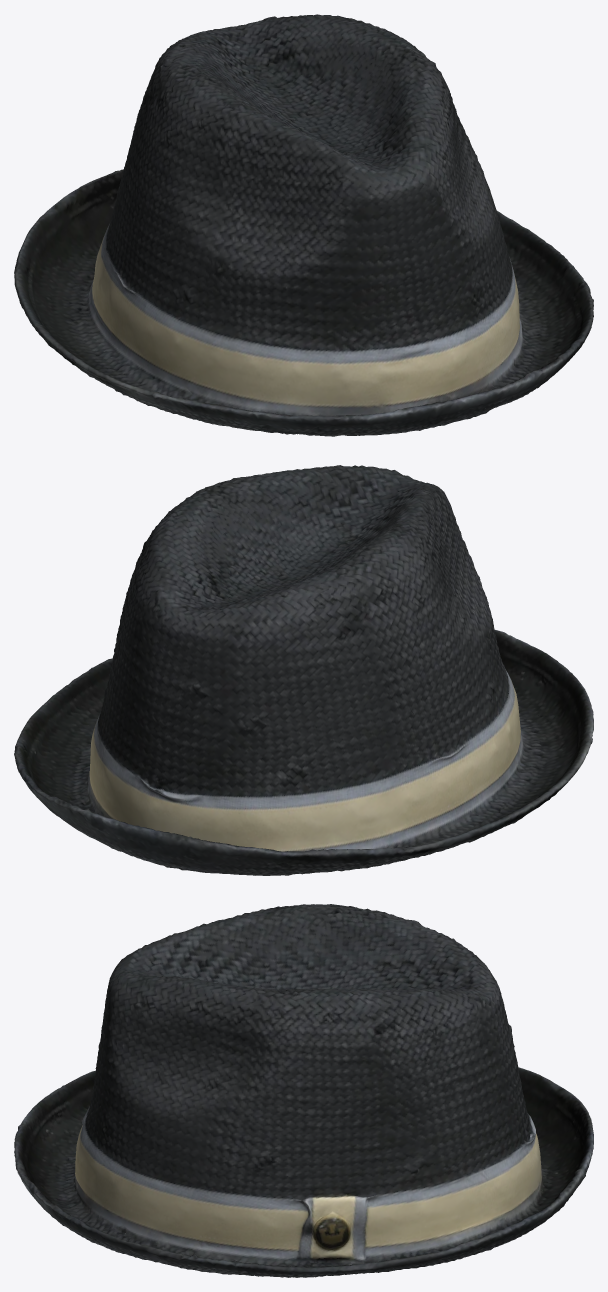
The model's file is Retail_Leadership_Summit_tQFCizMt6g0.glb.
The picture shows the model from 3 angles, top to bottom: view 1: azimuth 30°, elevation 25°; view 2: azimuth 150°, elevation 25°; view 3: azimuth 270°, elevation 25°; orthographic projection. The views are drawn at different scales.
Visible parts, largest first — view 1: Retail_Leadership_Summit_tQFCizMt6g0; view 2: Retail_Leadership_Summit_tQFCizMt6g0; view 3: Retail_Leadership_Summit_tQFCizMt6g0.
Boxes of the visible parts, box(x1,y1,x2,y2) form: Retail_Leadership_Summit_tQFCizMt6g0: box(14, 14, 593, 436); Retail_Leadership_Summit_tQFCizMt6g0: box(14, 465, 593, 875); Retail_Leadership_Summit_tQFCizMt6g0: box(14, 904, 593, 1277).
Size of the model in its own units: 0.2472 by 0.1253 by 0.2735.
Materials: 1 (1 with a texture image).
